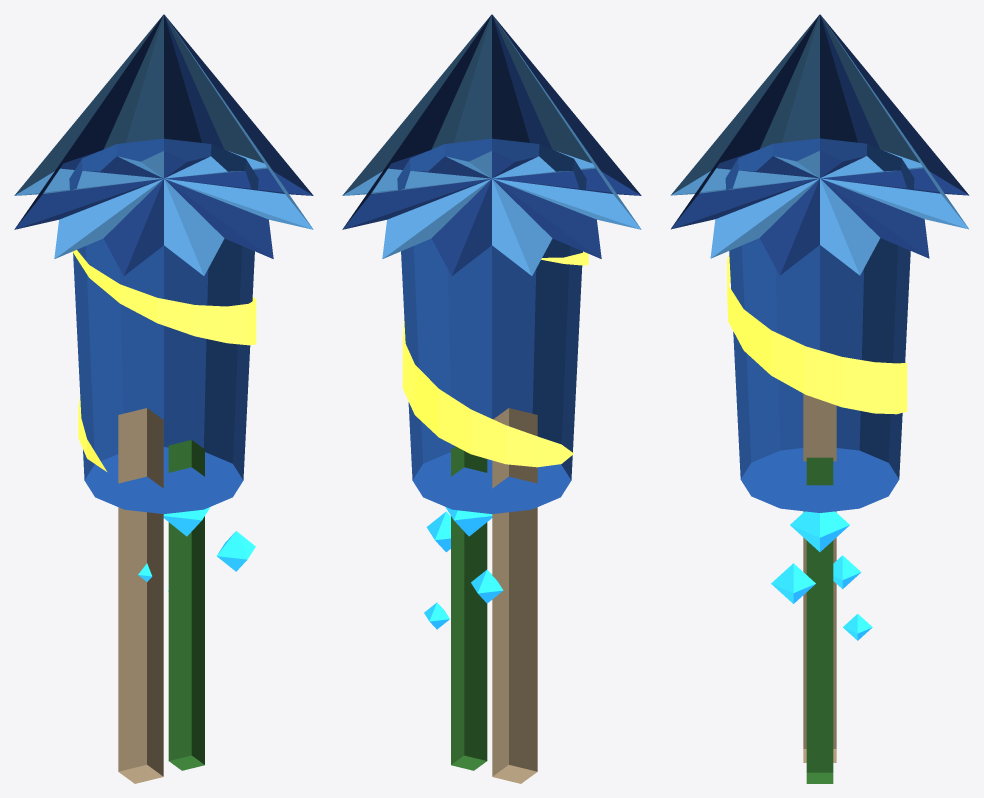
Rendered from rocket_blue_lit.glb.
3 renders of one model, left to right at view 1: azimuth 30°, elevation 25°; view 2: azimuth 150°, elevation 25°; view 3: azimuth 270°, elevation 25°, orthographic.
Parts seen in each view (by area): view 1: body, fan_a, fan_b, stick, fuse, emblem, sparks; view 2: body, fan_a, fan_b, stick, fuse, emblem, sparks; view 3: body, fan_a, fan_b, emblem, fuse, stick, sparks.
Boxes of the visible parts, box(x1,y1,x2,y2) form: body: box(69, 138, 258, 513); fan_a: box(14, 14, 313, 275); fan_b: box(14, 14, 313, 275); stick: box(118, 408, 163, 783); fuse: box(168, 440, 204, 770); emblem: box(72, 250, 256, 471); sparks: box(138, 507, 255, 591); body: box(397, 138, 586, 513); fan_a: box(342, 14, 641, 275); fan_b: box(342, 14, 641, 275); stick: box(492, 408, 537, 783); fuse: box(451, 446, 487, 770); emblem: box(402, 251, 588, 467); sparks: box(424, 507, 503, 629); body: box(725, 138, 914, 512); fan_a: box(671, 14, 969, 275); fan_b: box(670, 14, 968, 275); emblem: box(727, 255, 907, 414); fuse: box(806, 457, 833, 783); stick: box(803, 393, 836, 762); sparks: box(771, 511, 872, 640).
Bounding box in the file's own units: 0.396 × 1.1 × 0.396.
